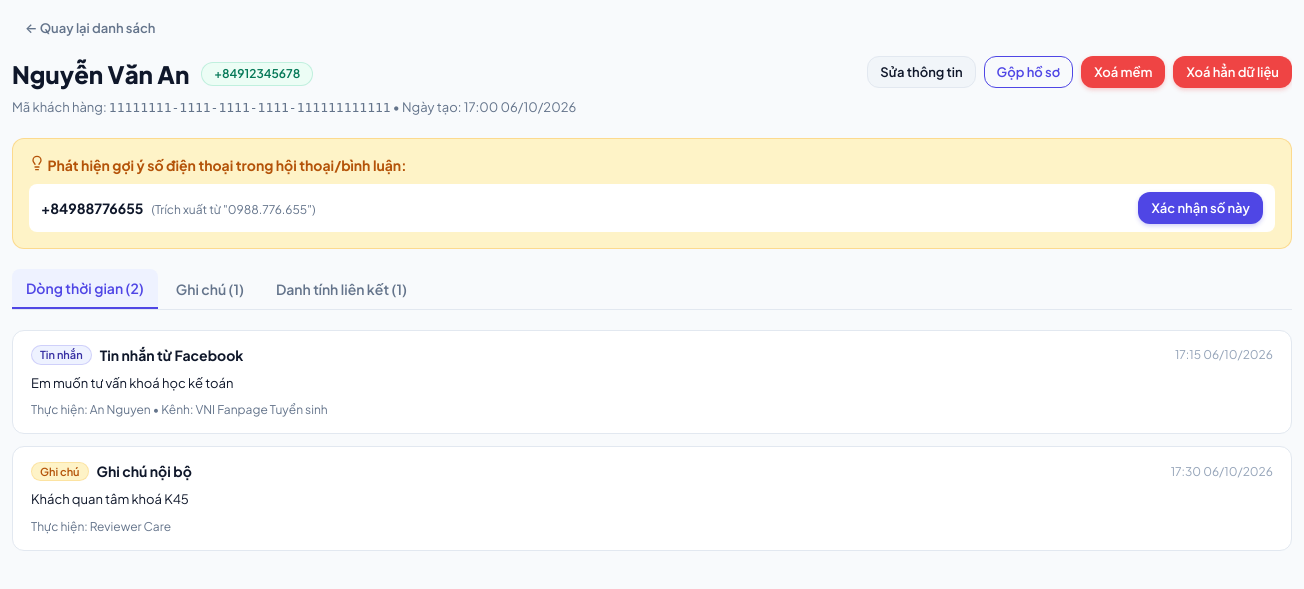
Scenario: AC crm-profile-care-test (925780ff) — CrmApp Vitest › Customer Profile (Hồ sơ, Dòng thời gian, Ghi chú, Nhắc việc, Gợi ý SĐT) › renders customer info, identities, timeline, and notes
Check: the heading with test id "profile-display-name" reads "Nguyễn Văn An", box [12,59,189,89]
Check: the element with test id "phone-suggestions-box" is shown, box [12,138,1292,248]
Switch to notes tab
Step 1. Click the button with test id "tab-notes" → (210, 288), box [162,268,258,308]
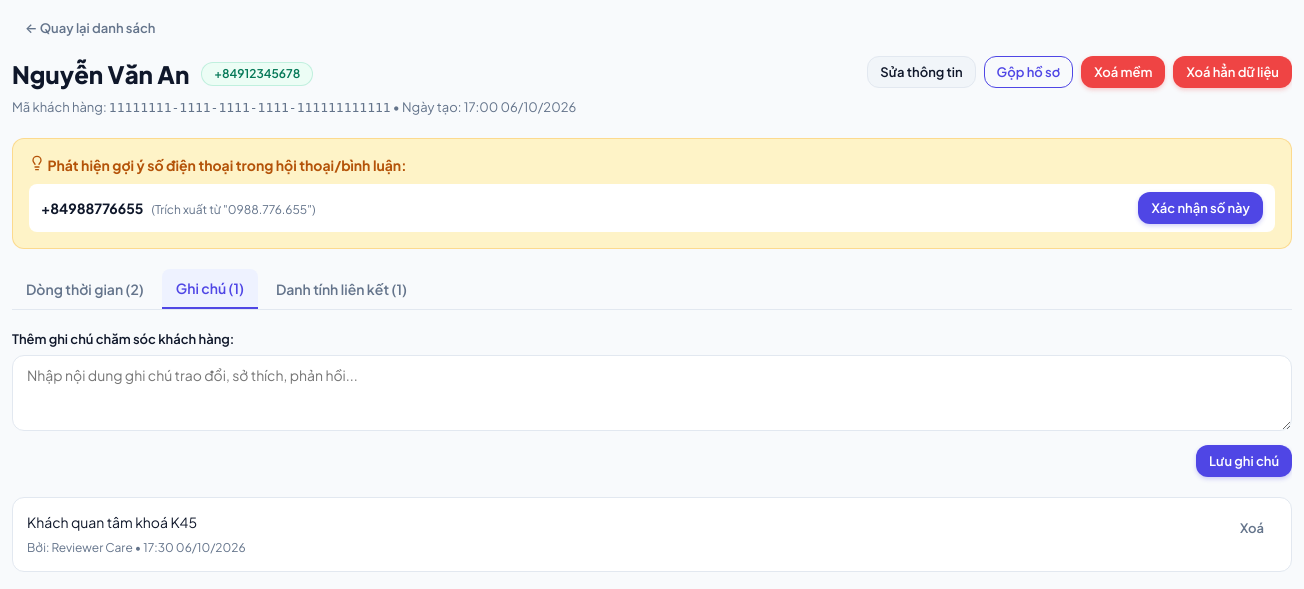
Check: the text "Khách quan tâm khoá K45" is shown, box [27,513,197,531]
Check: the element with test id "notes-pane" is shown, box [12,330,1292,572]
Switch to identities tab
Step 2. Click the button with test id "tab-identities" → (341, 288), box [262,268,421,308]
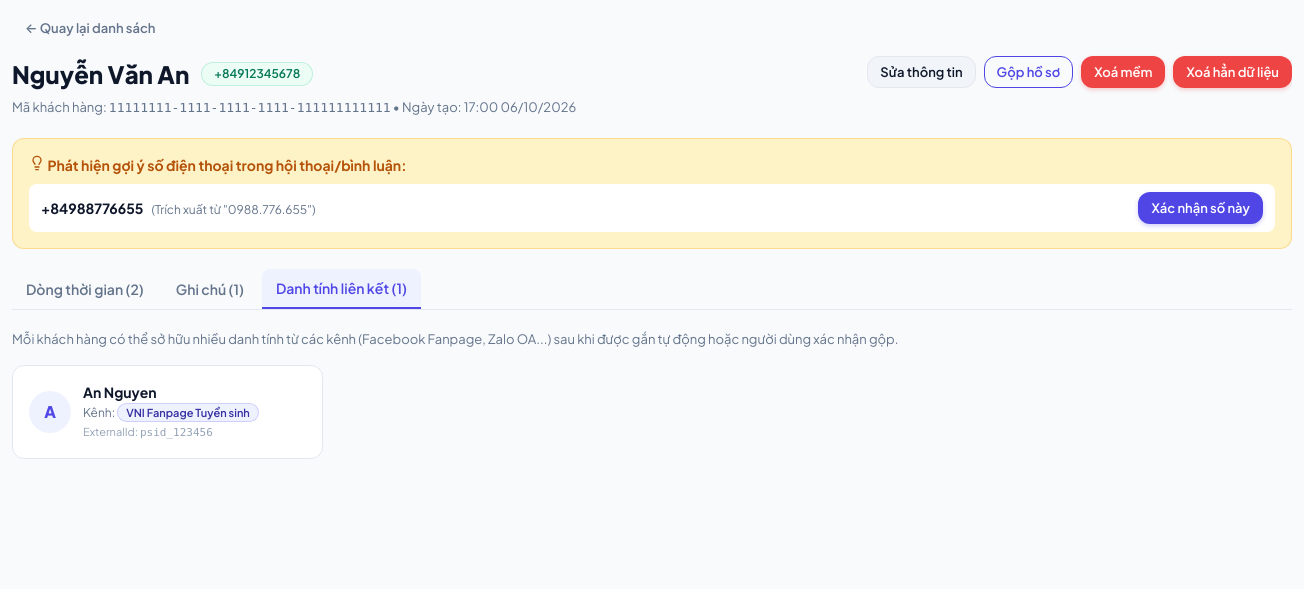
Check: the element with test id "identities-pane" is shown, box [12,330,898,459]
Check: the text "psid_123456" is shown, box [140,426,213,439]
